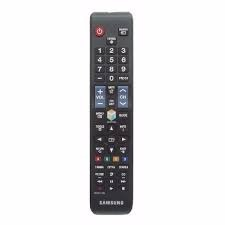remote control: (87, 7, 141, 214)
